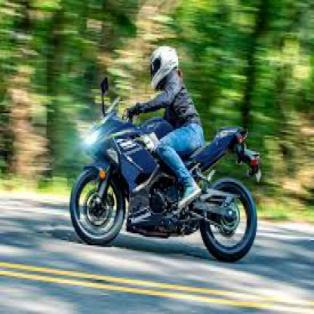Motocicleta: (68, 95, 263, 266)
